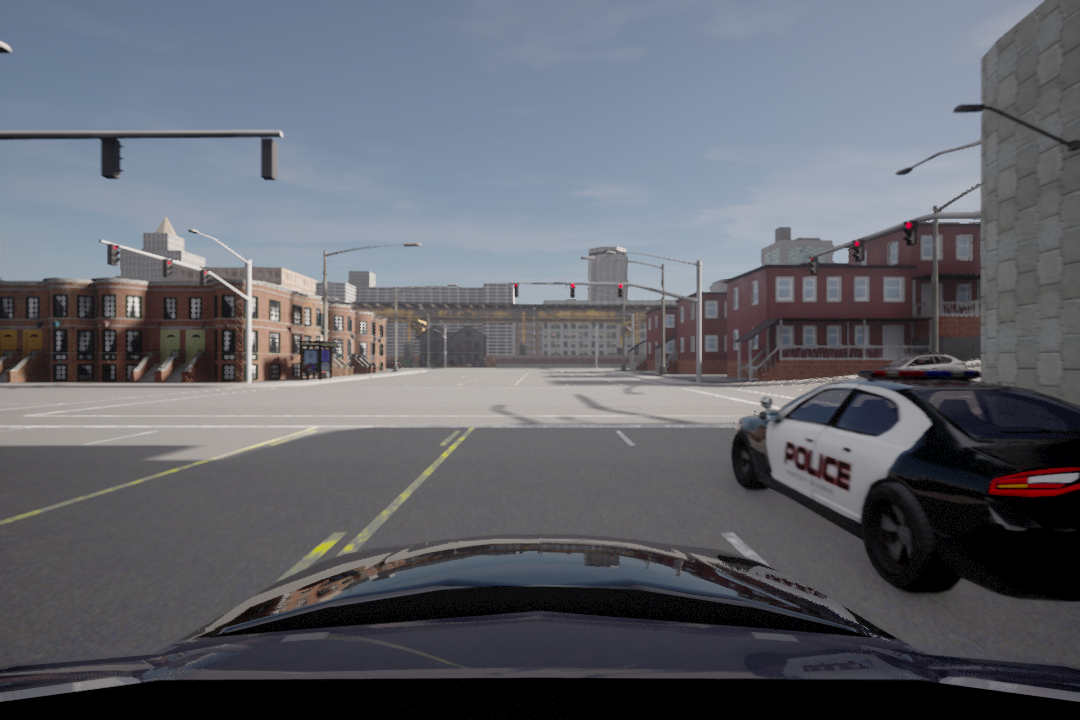TrafficLight: (105, 244, 121, 266), (903, 220, 917, 245), (851, 238, 864, 262), (161, 257, 174, 277), (199, 267, 211, 287), (809, 255, 818, 274), (615, 281, 624, 298), (511, 283, 521, 297), (567, 282, 576, 297)
